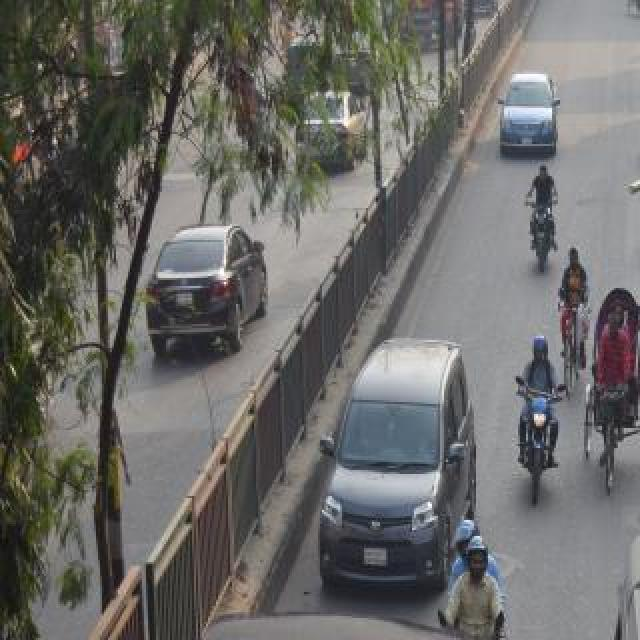car: (142, 230, 270, 350), (294, 89, 384, 175), (486, 68, 564, 158)
motorbike: (434, 506, 512, 640), (515, 328, 559, 508), (515, 166, 561, 278)
van: (312, 333, 470, 585)
